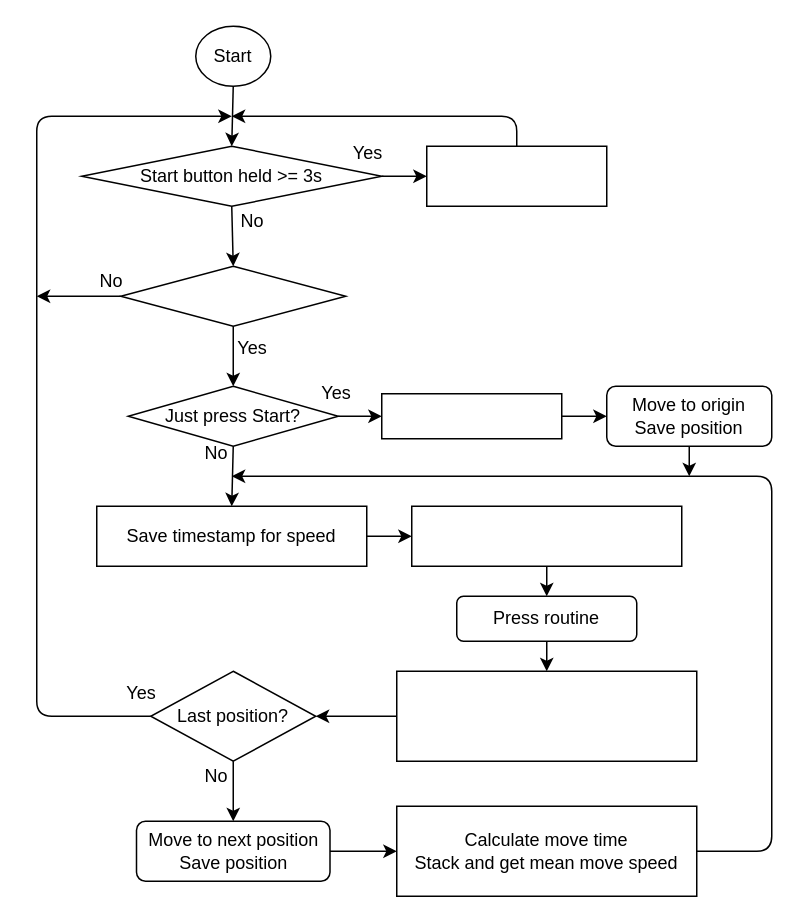
Some shapes in this 810 by 923 pixel diagram are drawn without their labels. Here are the shapes that lost their labels. From the top down, the box of each, then its label:
(425, 145, 607, 206): Save latest position
(119, 265, 346, 326): Start command
(380, 392, 562, 439): Read last position
(410, 505, 682, 566): Save timestamp for press
(395, 670, 697, 761): Calculate press time Stack and get mean press speed
